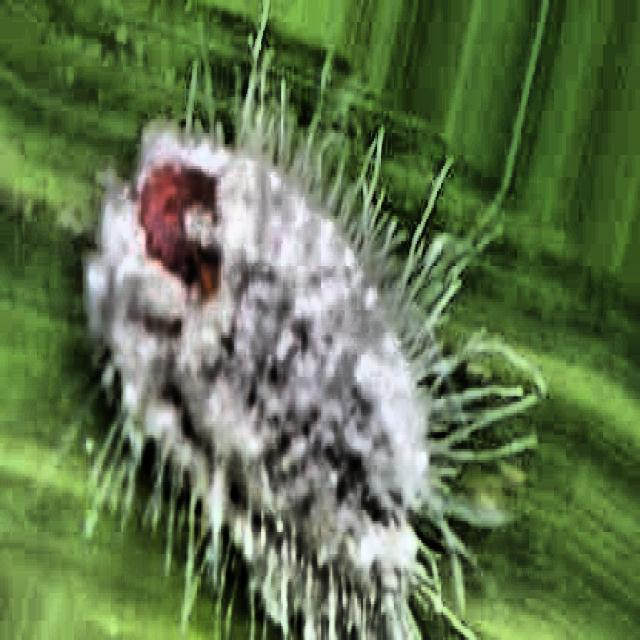Mealy-bug: (49, 29, 527, 636)
